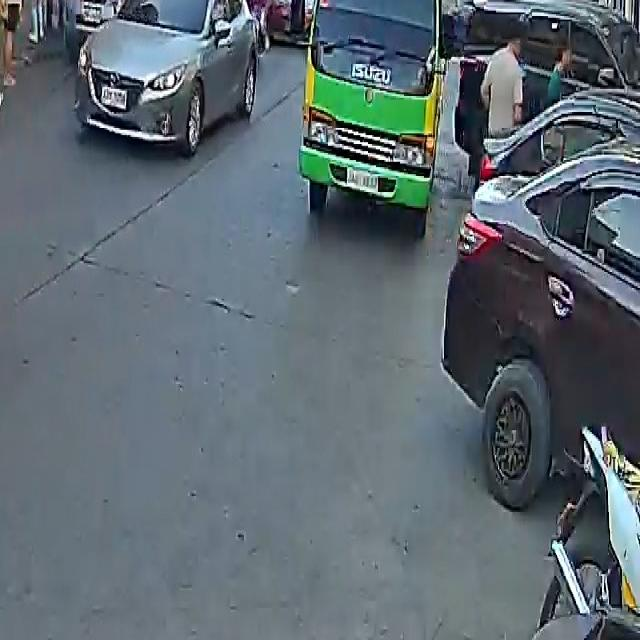car: (443, 61, 640, 528), (67, 0, 264, 153), (466, 0, 639, 105), (70, 0, 196, 46)
